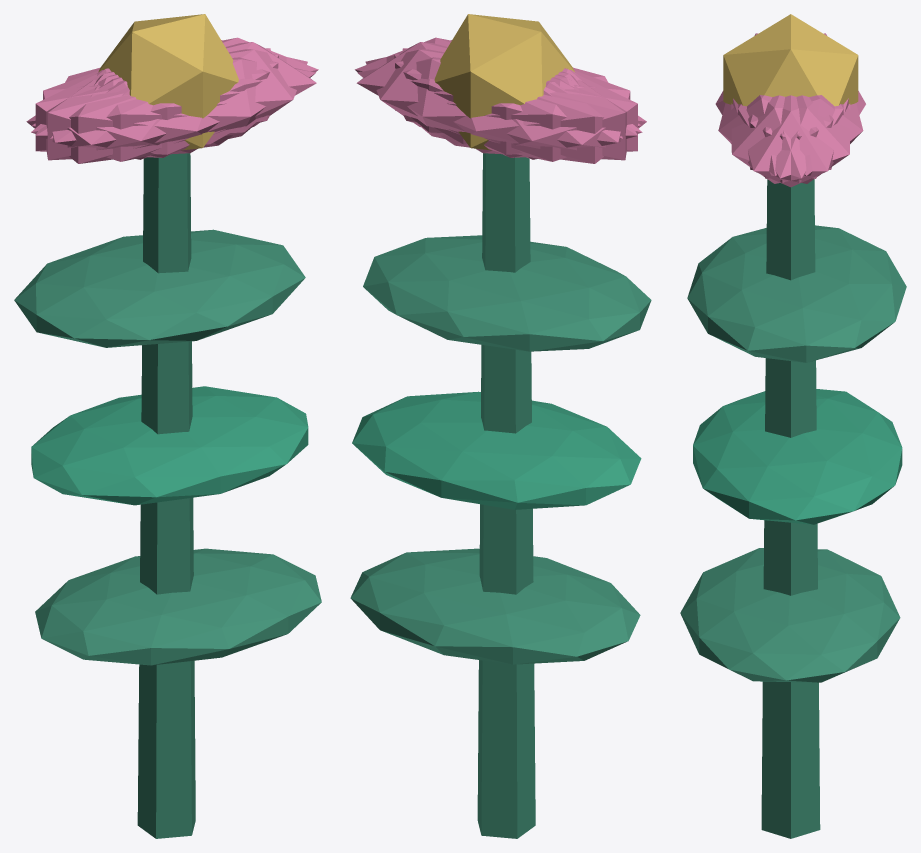
Rendered from melothria-pendula.glb.
3 renders of one model, left to right at view 1: azimuth 30°, elevation 25°; view 2: azimuth 150°, elevation 25°; view 3: azimuth 270°, elevation 25°, orthographic.
Parts seen in each view (by area): view 1: stem, leaf2, leaf0, leaf1, center, petal1, petal6, petal2, petal5, petal7, petal0, petal4 (+2 smaller); view 2: stem, leaf2, leaf1, leaf0, center, petal8, petal3, petal7, petal4, petal2, petal0, petal5 (+2 smaller); view 3: stem, leaf2, leaf0, leaf1, center, petal0, petal5, petal4, petal1, petal8.
Boxes of the visible parts, x1,y1,x2,y2 form: stem: (137,153,195,838); leaf2: (14,229,305,347); leaf0: (35,548,321,665); leaf1: (31,386,308,505); center: (98,14,238,150); petal1: (31,57,315,161); petal6: (26,70,232,163); petal2: (46,48,270,160); petal5: (50,49,307,154); petal7: (35,54,278,157); petal0: (98,42,316,144); petal4: (32,37,318,135); stem: (477,153,535,838); leaf2: (363,235,651,351); leaf1: (352,391,641,509); leaf0: (350,548,640,664); center: (434,14,574,150); petal8: (357,57,642,161); petal3: (440,70,646,163); petal7: (402,48,626,160); petal4: (365,49,622,154); petal2: (394,54,637,157); petal0: (356,42,575,144); petal5: (355,37,640,135); stem: (761,179,820,838); leaf2: (687,225,906,362); leaf0: (680,548,900,682); leaf1: (693,389,902,524); center: (723,14,858,106); petal0: (733,95,848,187); petal5: (731,95,843,183); petal4: (738,95,850,183); petal1: (718,95,833,175); petal8: (748,95,863,175).
Size of the model in its own units: 0.1452 by 0.3977 by 0.1028.
